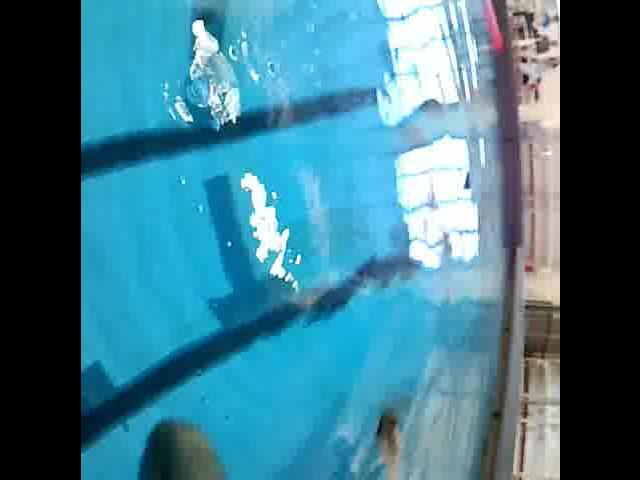CamMount: (458, 168, 474, 194)
